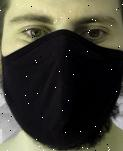with_mask: (1, 1, 123, 151)
